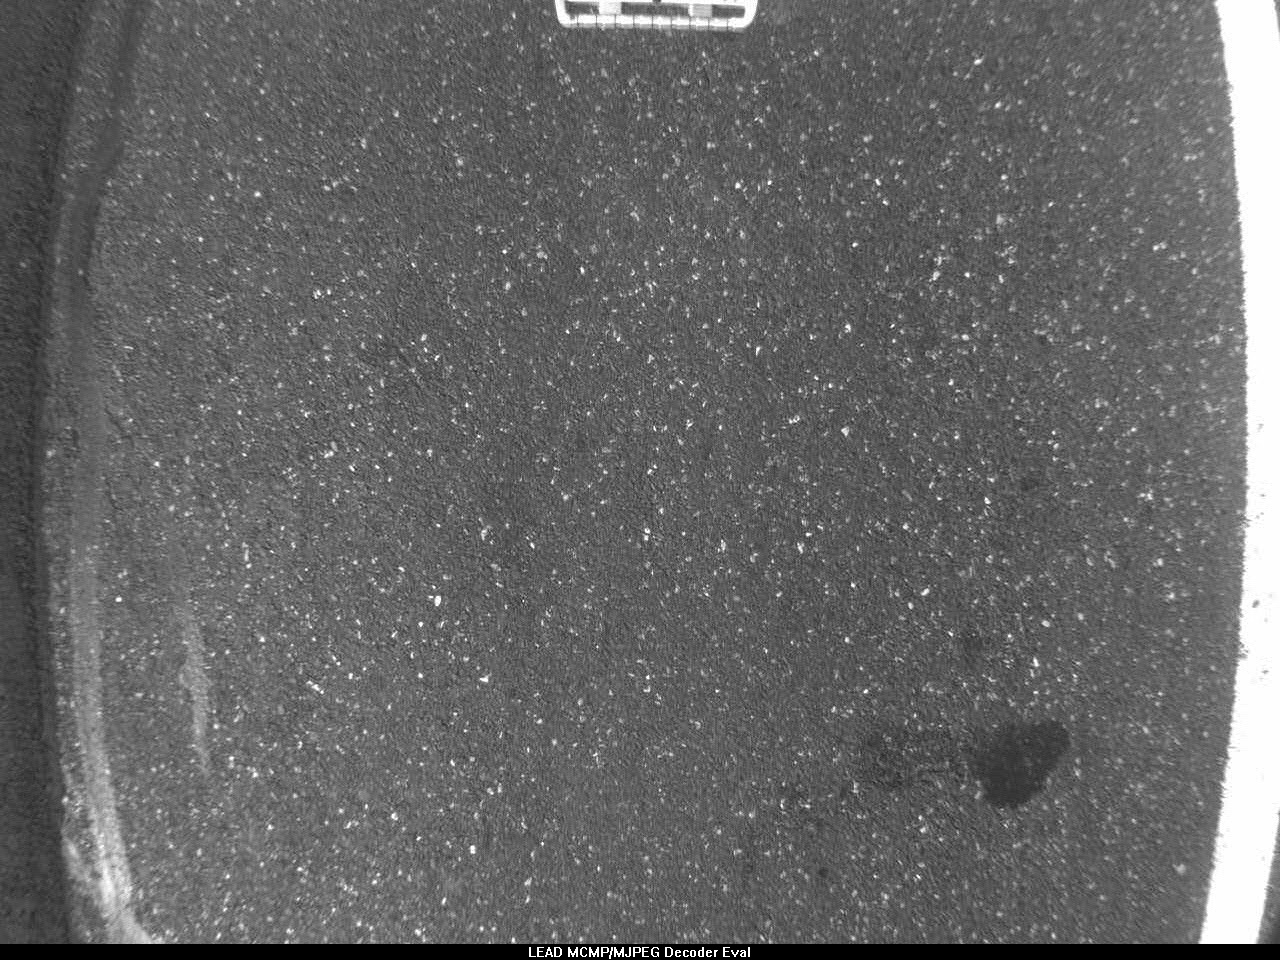sealed: (65, 375, 159, 942)
